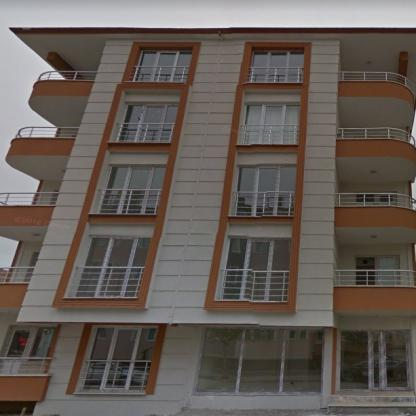door: (339, 330, 410, 390), (2, 328, 34, 375)
window: (195, 328, 321, 394), (76, 327, 155, 393), (70, 234, 150, 298), (221, 236, 291, 302), (228, 164, 297, 216), (97, 164, 166, 213), (116, 103, 177, 142), (243, 103, 299, 144), (131, 50, 191, 82), (249, 50, 304, 83), (26, 327, 56, 361), (376, 255, 400, 285), (356, 192, 396, 205)
